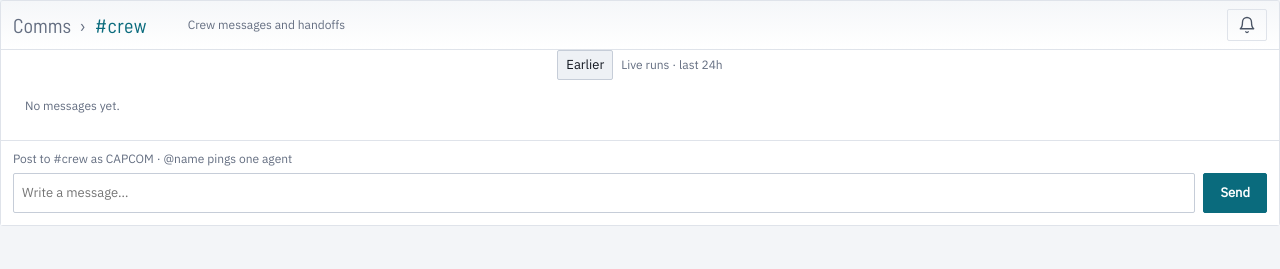
Test: current crew and Earlier › reports an archive failure and retries instead of claiming there are no messages
This screenshot has width=1280, height=269.
Click the button "Earlier": (585, 65) [557,50,613,80]
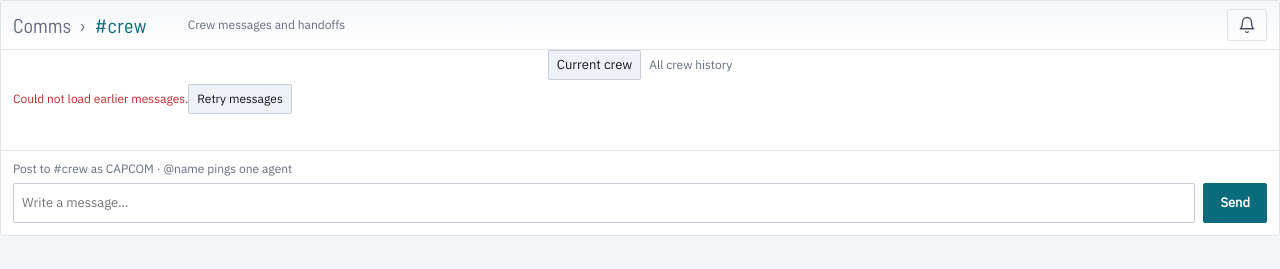
Now the text "Could not load earlier messages." is shown, box [13,91,188,106]
Now the text "No messages yet." is gone
Click the button "Retry messages": (240, 99) [188,84,292,114]
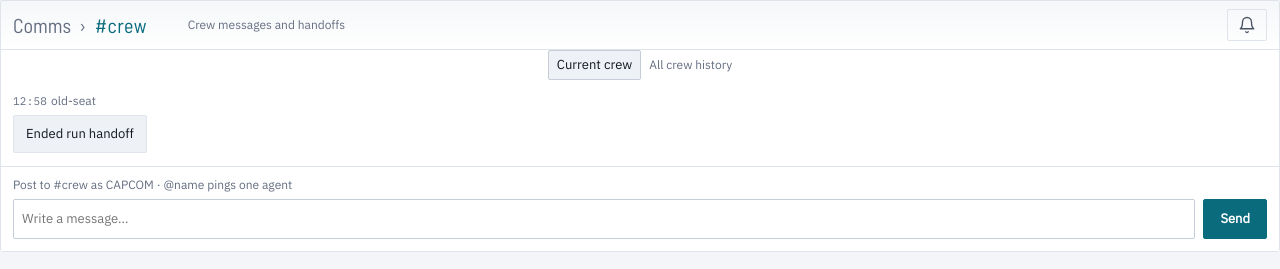
Now the text "Ended run handoff" is shown, box [13,115,147,153]
